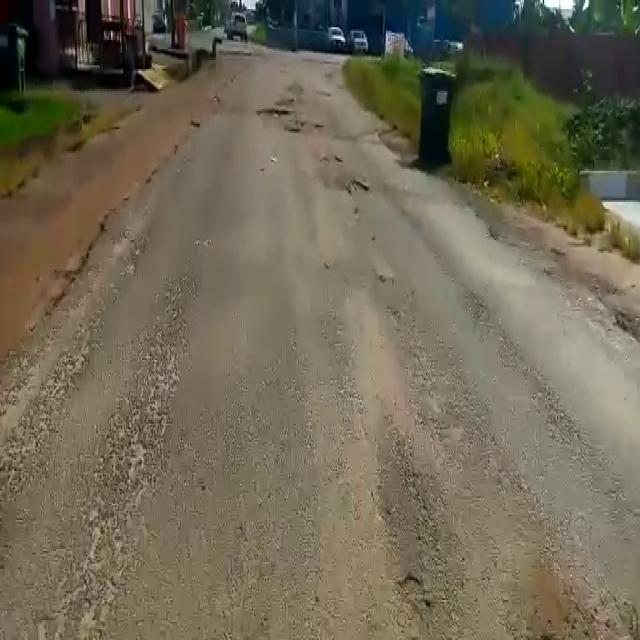Pothole: (344, 177, 370, 198), (254, 107, 294, 117)
